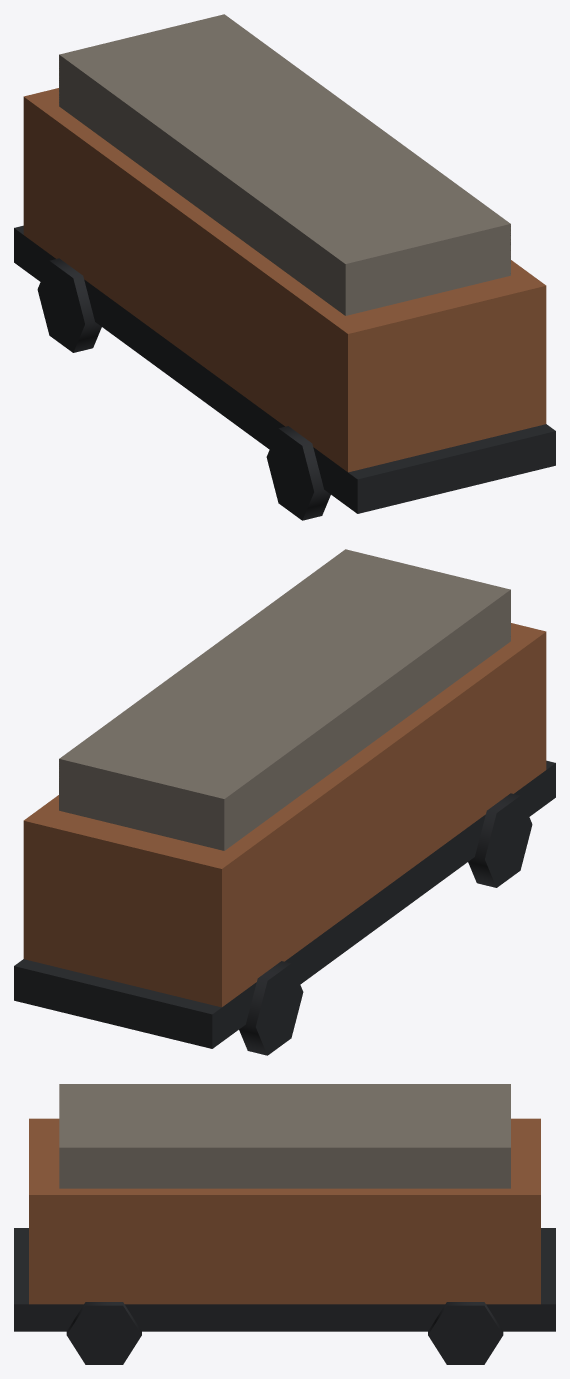
File: vehicle_rail_wagon.glb
3 views of the same model, one above another, from view 1: azimuth 30°, elevation 25°; view 2: azimuth 150°, elevation 25°; view 3: azimuth 270°, elevation 25° (orthographic). The views are drawn at different scales.
Parts seen in each view (by area): view 1: vehicle_rail_wagon; view 2: vehicle_rail_wagon; view 3: vehicle_rail_wagon.
Part boxes in pixels (x1,y1,x2,y2): vehicle_rail_wagon: (14,14,555,520); vehicle_rail_wagon: (14,549,555,1055); vehicle_rail_wagon: (14,1084,555,1364).
Size of the model in its own units: 0.132 by 0.1517 by 0.36.
